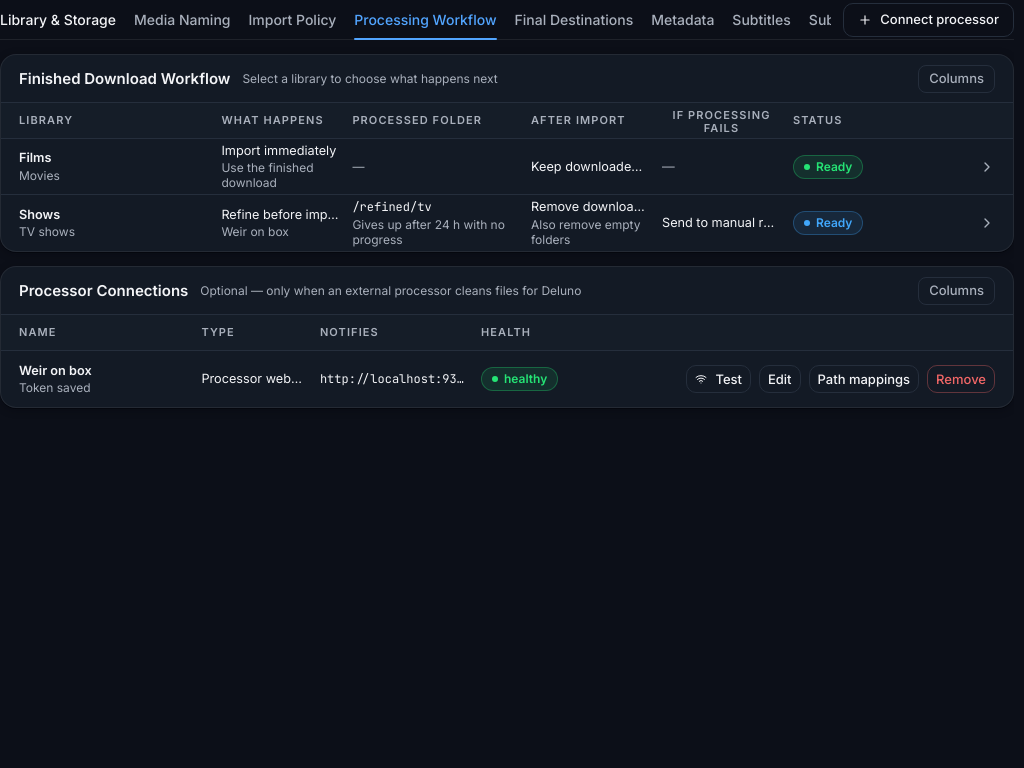
how finished downloads are handled, per library › opens the drawer for the library whose row is clicked, titled 'How to handle finished downloads'
Click the text "Shows".
click(40, 214)  # box [19,207,60,222]
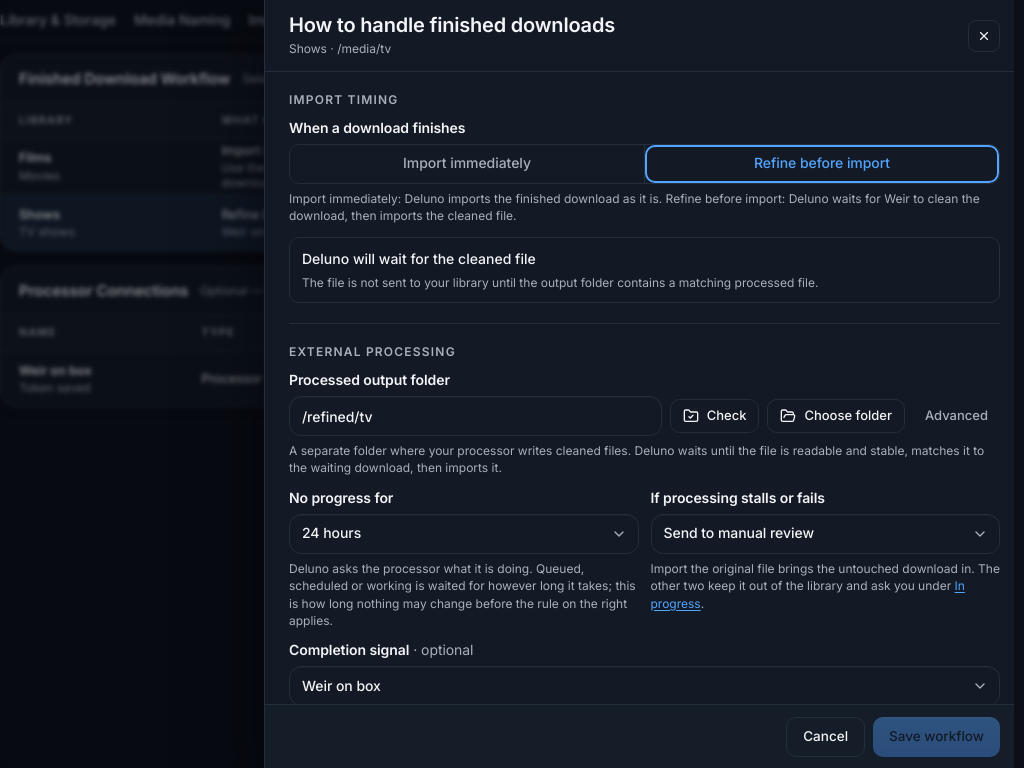
expect the heading "How to handle finished downloads" is shown: met, box [289,13,615,38]
expect the text "Shows · /media/tv" is shown: met, box [289,41,391,56]
